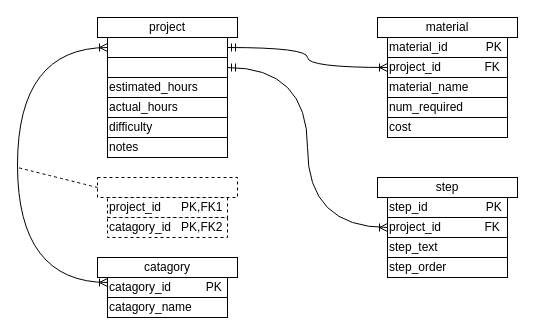
This 535x335 diagram has some shape labels left out. Each missing label, with the box of its shape:
project_catagory: (96, 176, 238, 198)
project_id PK: (106, 36, 228, 58)
project_name: (106, 56, 228, 78)
